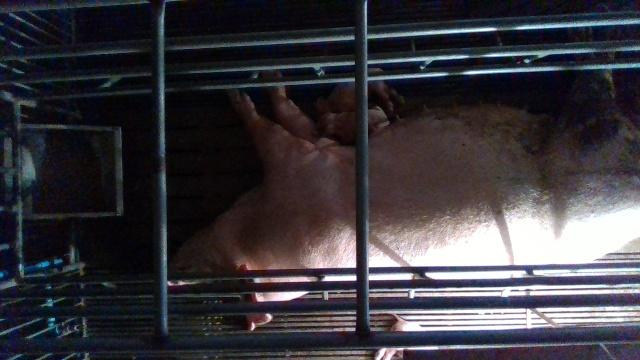piglet: (315, 67, 405, 111), (316, 106, 389, 146)
sow-sleep-lactate: (169, 67, 640, 330)
